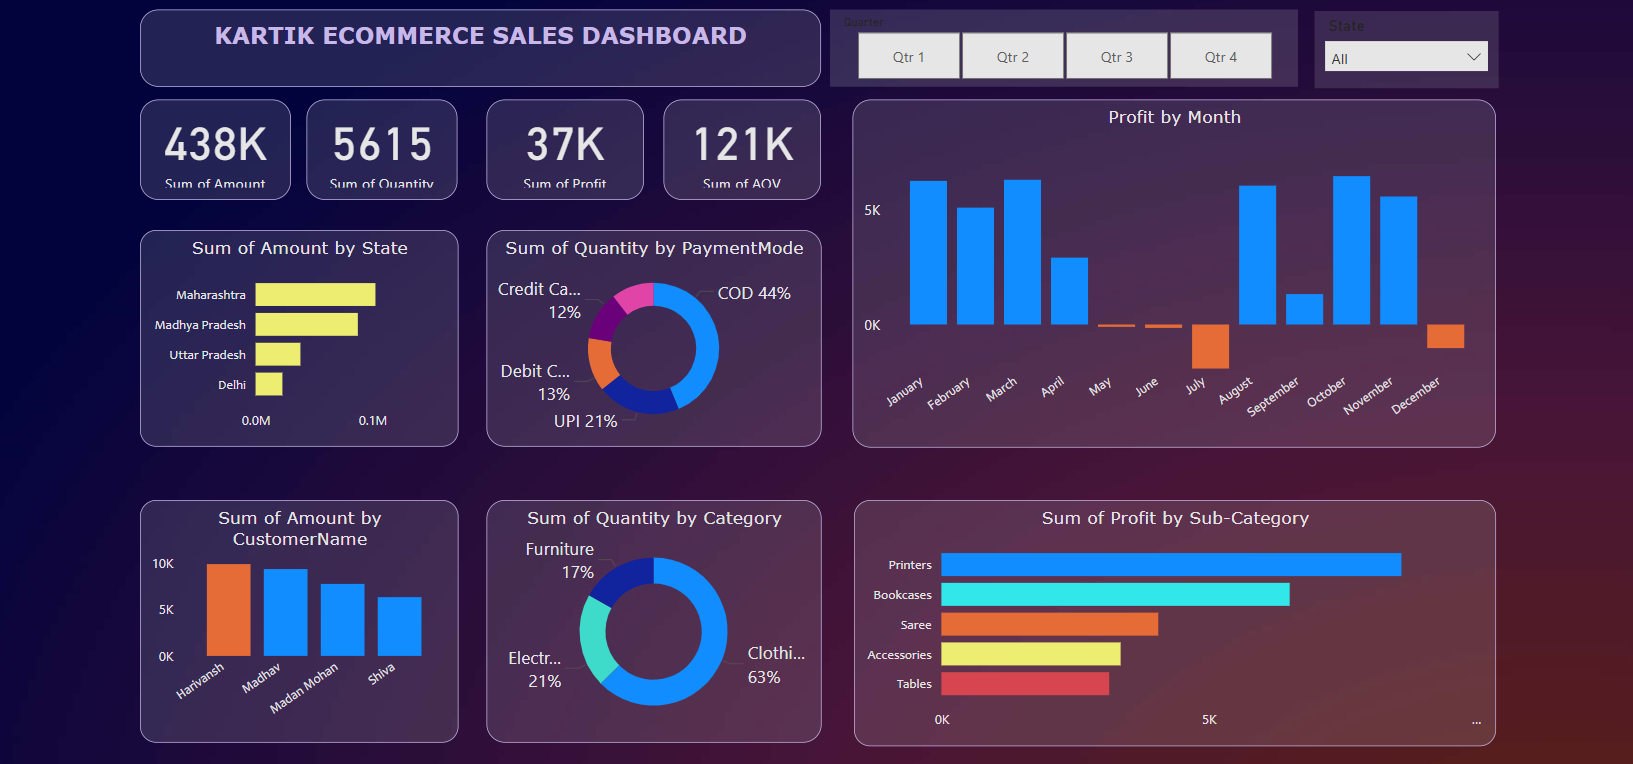

Layout of this report page (visuals, bound fields, positions):
{"tool":"powerbi","page":{"name":"Page 1","canvas":[1280,720],"ordinal":0},"visuals":[{"type":"textbox","box":[10.6,12.1,628.8,71.2],"z":0},{"type":"columnChart","title":"Profit by Month","fields":{"Category":["Orders_fixed.Order Date.Variation.Date Hierarchy.Month"],"Y":["Details.Profit"]},"box":[668.2,95.5,593.9,321.2],"z":1000},{"type":"barChart","fields":{"Category":["Details.Sub-Category"],"Y":["Details.Profit"]},"box":[669.7,465.2,592.4,227.3],"z":2000},{"type":"donutChart","fields":{"Category":["Details.Category"],"Y":["Details.Quantity"]},"box":[330.3,465.2,309.1,224.2],"z":3000},{"type":"donutChart","fields":{"Y":["Details.Quantity"],"Category":["Details.PaymentMode"]},"box":[330.3,216.7,309.1,200],"z":4000},{"type":"card","fields":{"Values":["Details.Amount"]},"box":[10.6,95.5,139.4,92.4],"z":5000},{"type":"card","fields":{"Values":["Details.Quantity"]},"box":[165.2,95.5,139.4,92.4],"z":6000},{"type":"card","fields":{"Values":["Details.Profit"]},"box":[330.3,95.5,145.5,92.4],"z":7000},{"type":"card","fields":{"Values":["Details.AOV"]},"box":[493.9,95.5,145.5,92.4],"z":8000},{"type":"barChart","fields":{"Category":["Orders_fixed.State"],"Y":["Details.Amount"]},"box":[10.6,216.7,293.9,200],"z":9000},{"type":"columnChart","fields":{"Category":["Orders_fixed.CustomerName"],"Y":["Details.Amount"]},"box":[10.6,465.2,293.9,224.2],"z":10000},{"type":"slicer","fields":{"Values":["Orders_fixed.Order Date.Variation.Date Hierarchy.Quarter"]},"box":[648.5,12.1,431.8,71.2],"z":11000},{"type":"slicer","fields":{"Values":["Orders_fixed.State"]},"box":[1095.5,13.6,169.7,71.2],"z":12000}]}

Visuals, with their boxes in screenshot pixels (x1, y1, x2, y2):
textbox: l=135, t=5, r=818, b=82
"Profit by Month" columnChart: l=850, t=95, r=1495, b=444
barChart - Details.Sub-Category x Details.Profit: l=851, t=497, r=1495, b=744
donutChart - Details.Category x Details.Quantity: l=482, t=497, r=818, b=741
donutChart - Details.Quantity x Details.PaymentMode: l=482, t=227, r=818, b=444
card - Details.Amount: l=135, t=95, r=286, b=196
card - Details.Quantity: l=303, t=95, r=454, b=196
card - Details.Profit: l=482, t=95, r=641, b=196
card - Details.AOV: l=660, t=95, r=818, b=196
barChart - Orders_fixed.State x Details.Amount: l=135, t=227, r=454, b=444
columnChart - Orders_fixed.CustomerName x Details.Amount: l=135, t=497, r=454, b=741
slicer - Orders_fixed.Order Date.Variation.Date Hierarchy.Quarter: l=828, t=5, r=1298, b=82
slicer - Orders_fixed.State: l=1314, t=6, r=1499, b=84
